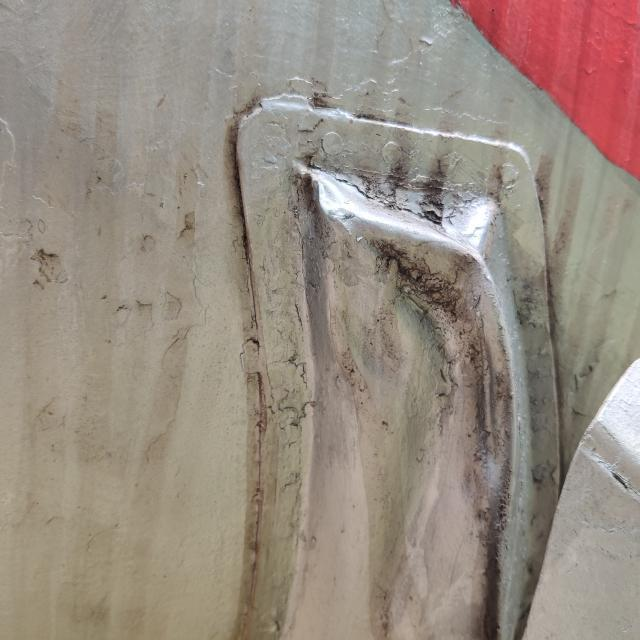dent: (266, 138, 550, 640)
